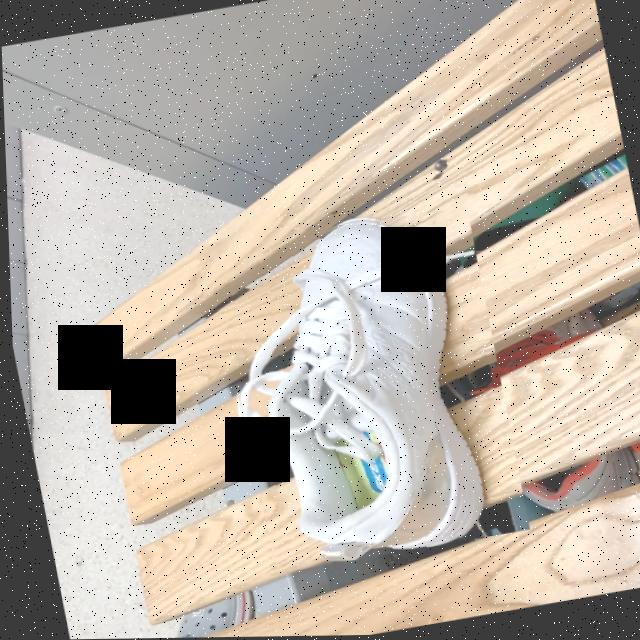shoe: (235, 223, 483, 563)
